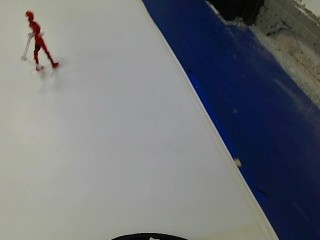pedestrian: (23, 8, 61, 72)
